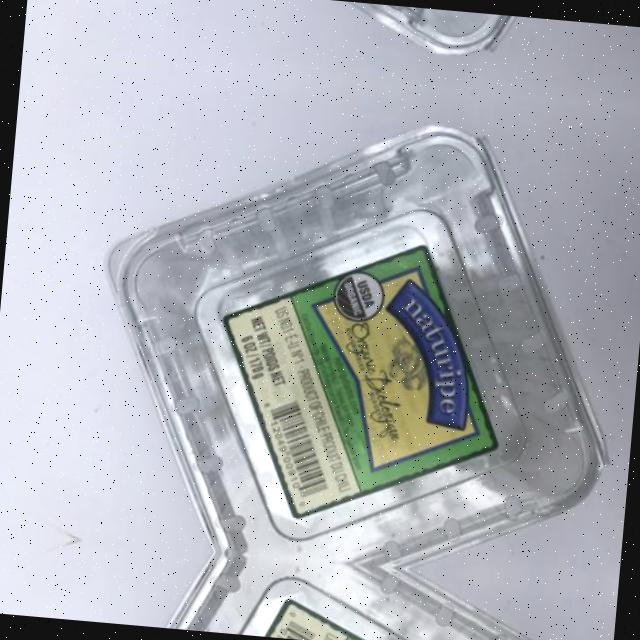Plastic: (33, 88, 640, 585), (26, 534, 605, 640), (78, 0, 640, 75)
